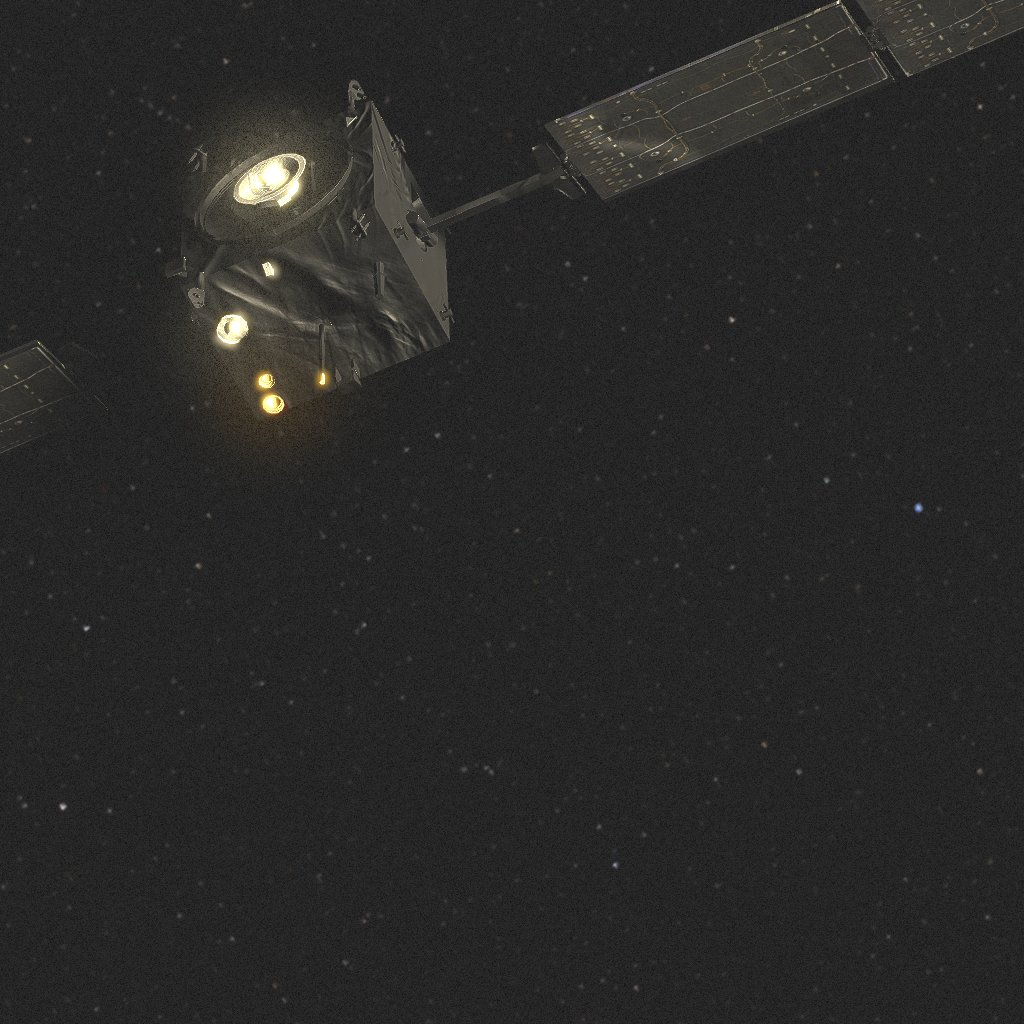smart_1: (0, 0, 1024, 456)
